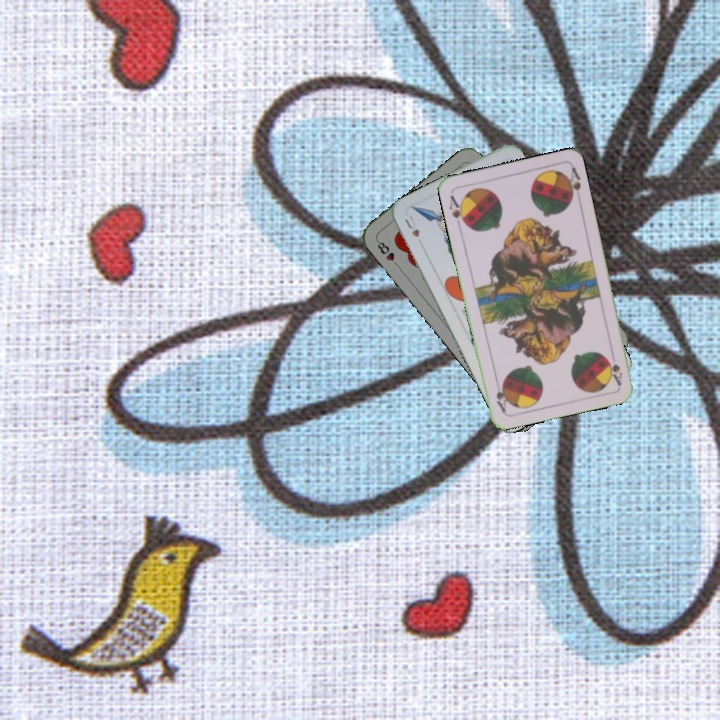H8: (373, 236, 402, 270)
HU: (400, 211, 422, 240)
SA: (445, 191, 470, 230), (603, 347, 625, 388)
